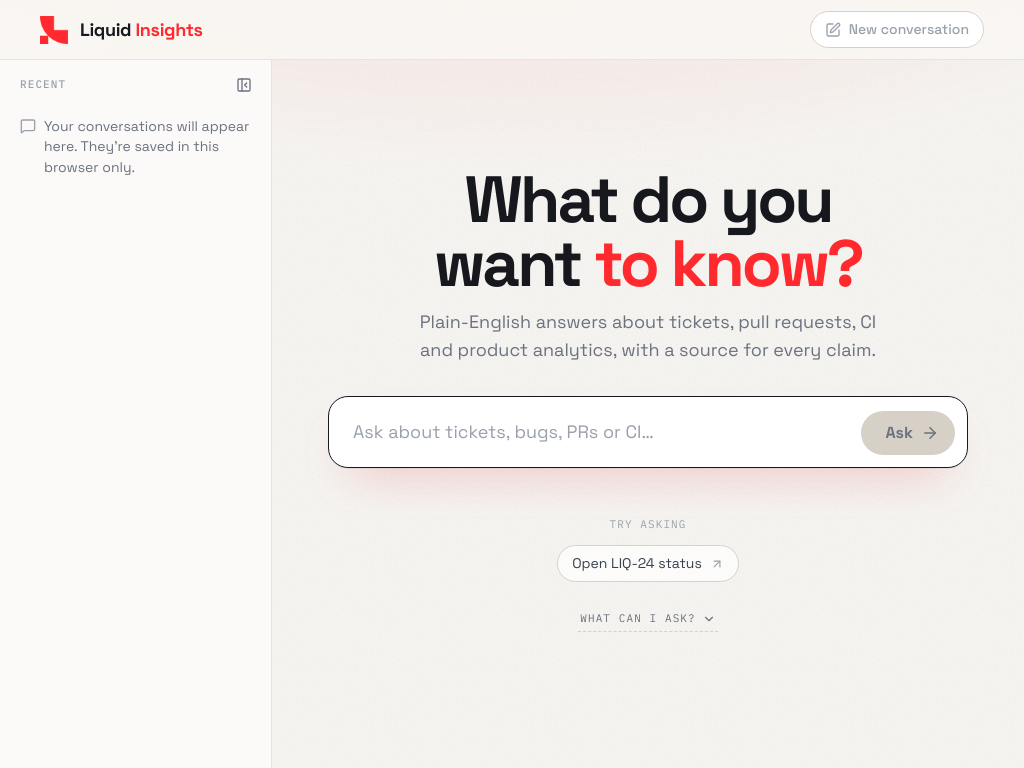
App › shows the hero, sends a pill, and renders the cited answer
This screenshot has width=1024, height=768.
Check: the heading "What do you want to know?" is shown, box [434,158,862,305]
Click the button "Open LIQ-24 status". click: [648, 564]
box: [557,545,739,582]
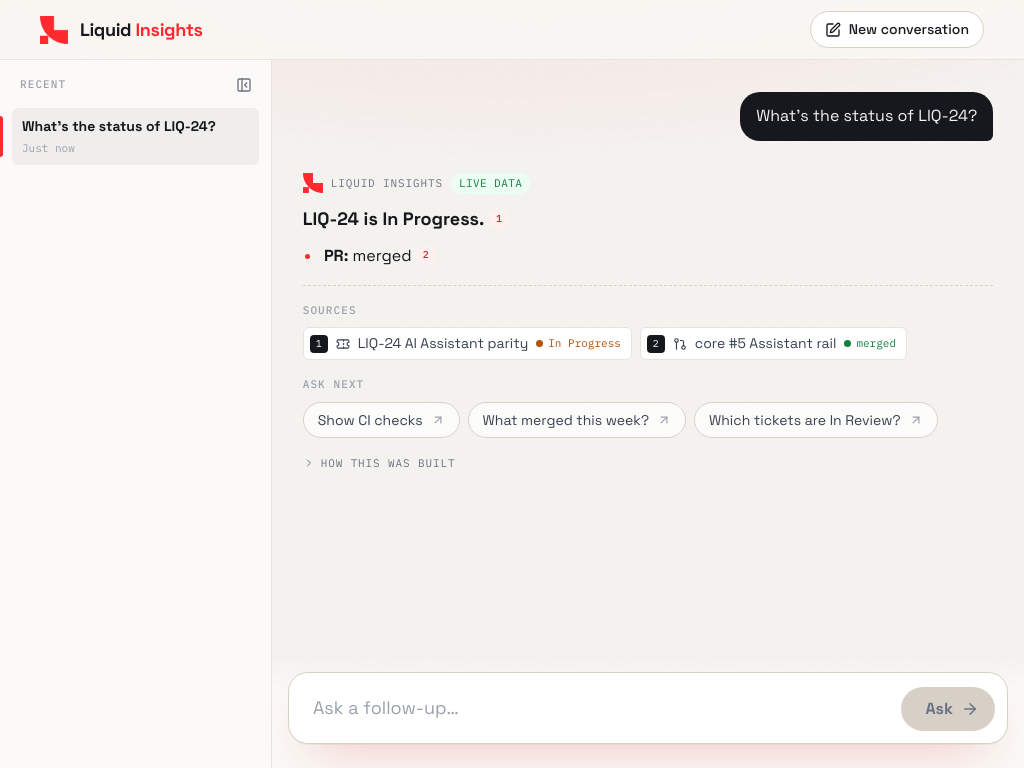
Check: the element named "Liquid Insights answer" is shown, box [303,173,993,476]
Check: the 1st text "What's the status of LIQ-24?" is shown, box [740,92,993,141]
Check: the text "What's the status of LIQ-24?" below "Recent" is shown, box [22,117,216,135]
